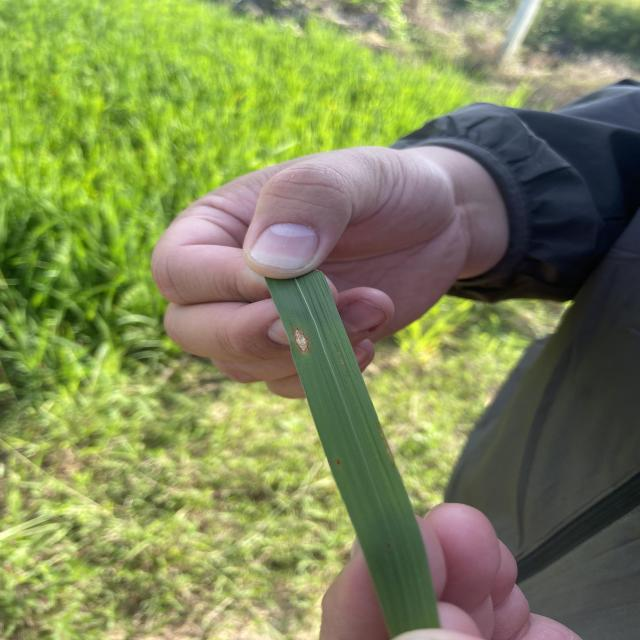Dao on: (293, 327, 309, 353)
